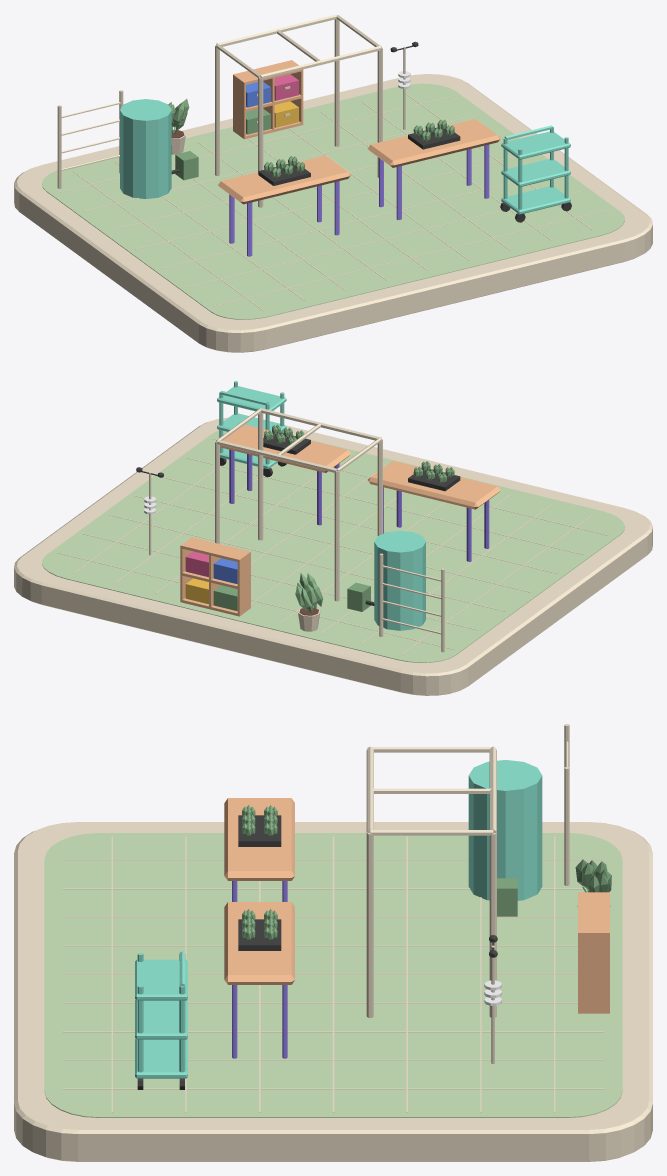
The model's file is room.fbx.
3 renders of one model, top to bottom at view 1: azimuth 30°, elevation 25°; view 2: azimuth 150°, elevation 25°; view 3: azimuth 270°, elevation 25°, orthographic. The views are drawn at different scales.
Parts seen in each view (by area): view 1: COM-02 Floor Surface, COM-01 Rounded Base Direct, Water tank, Rounded table top.001, Rounded table top, Tray.004, Tray.002, Tray.003, Pot, Cubbies divider, Post.003, Roof rail (+11 smaller); view 2: COM-02 Floor Surface, COM-01 Rounded Base Direct, Water tank, Rounded table top, Rounded table top.001, Pot, Tray.004, Cubbies shelf.002, Cubbies divider, Post.001, Post.002, Roof rail.001 (+12 smaller); view 3: COM-02 Floor Surface, COM-01 Rounded Base Direct, Water tank, Rounded table top, Rounded table top.001, Cubbies divider.002, Tray.004, Tray.002, Tray.003, Post.002, Cubbies shelf.002, Post.003 (+15 smaller).
Part boxes in pixels (left/top/right/bottom): COM-02 Floor Surface: left=42, top=83, right=624, bottom=319; COM-01 Rounded Base Direct: left=14, top=74, right=652, bottom=352; Water tank: left=120, top=99, right=171, bottom=198; Rounded table top.001: left=367, top=119, right=500, bottom=167; Rounded table top: left=218, top=155, right=351, bottom=204; Tray.004: left=501, top=131, right=570, bottom=159; Tray.002: left=501, top=186, right=570, bottom=214; Tray.003: left=501, top=159, right=570, bottom=186; Pot: left=168, top=99, right=189, bottom=154; Cubbies divider: left=233, top=75, right=245, bottom=139; Post.003: left=334, top=19, right=339, bottom=146; Roof rail: left=260, top=46, right=381, bottom=79; COM-02 Floor Surface: left=42, top=430, right=624, bottom=662; COM-01 Rounded Base Direct: left=14, top=417, right=652, bottom=695; Water tank: left=374, top=530, right=425, bottom=630; Rounded table top: left=367, top=460, right=500, bottom=509; Rounded table top.001: left=220, top=424, right=350, bottom=472; Pot: left=295, top=573, right=322, bottom=631; Tray.004: left=217, top=386, right=286, bottom=411; Cubbies shelf.002: left=180, top=537, right=250, bottom=561; Cubbies divider: left=237, top=552, right=250, bottom=616; Post.001: left=334, top=471, right=339, bottom=601; Post.002: left=258, top=412, right=263, bottom=540; Roof rail.001: left=216, top=439, right=337, bottom=472; COM-02 Floor Surface: left=44, top=833, right=622, bottom=1117; COM-01 Rounded Base Direct: left=14, top=822, right=652, bottom=1161; Water tank: left=468, top=760, right=542, bottom=900; Rounded table top: left=224, top=798, right=294, bottom=880; Rounded table top.001: left=224, top=902, right=294, bottom=984; Cubbies divider.002: left=578, top=933, right=609, bottom=1013; Tray.004: left=135, top=959, right=187, bottom=1000; Tray.002: left=135, top=1039, right=187, bottom=1078; Tray.003: left=135, top=1000, right=187, bottom=1039; Post.002: left=366, top=832, right=373, bottom=1017; Cubbies shelf.002: left=578, top=892, right=609, bottom=933; Post.003: left=489, top=832, right=496, bottom=1017.
Bounding box in the file's own units: 600 × 198 × 520.
